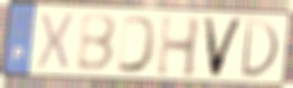B: (75, 13, 119, 75)
D: (238, 17, 282, 80), (115, 13, 159, 75)
H: (154, 12, 203, 80)
V: (201, 15, 247, 79)
X: (34, 11, 77, 74)
